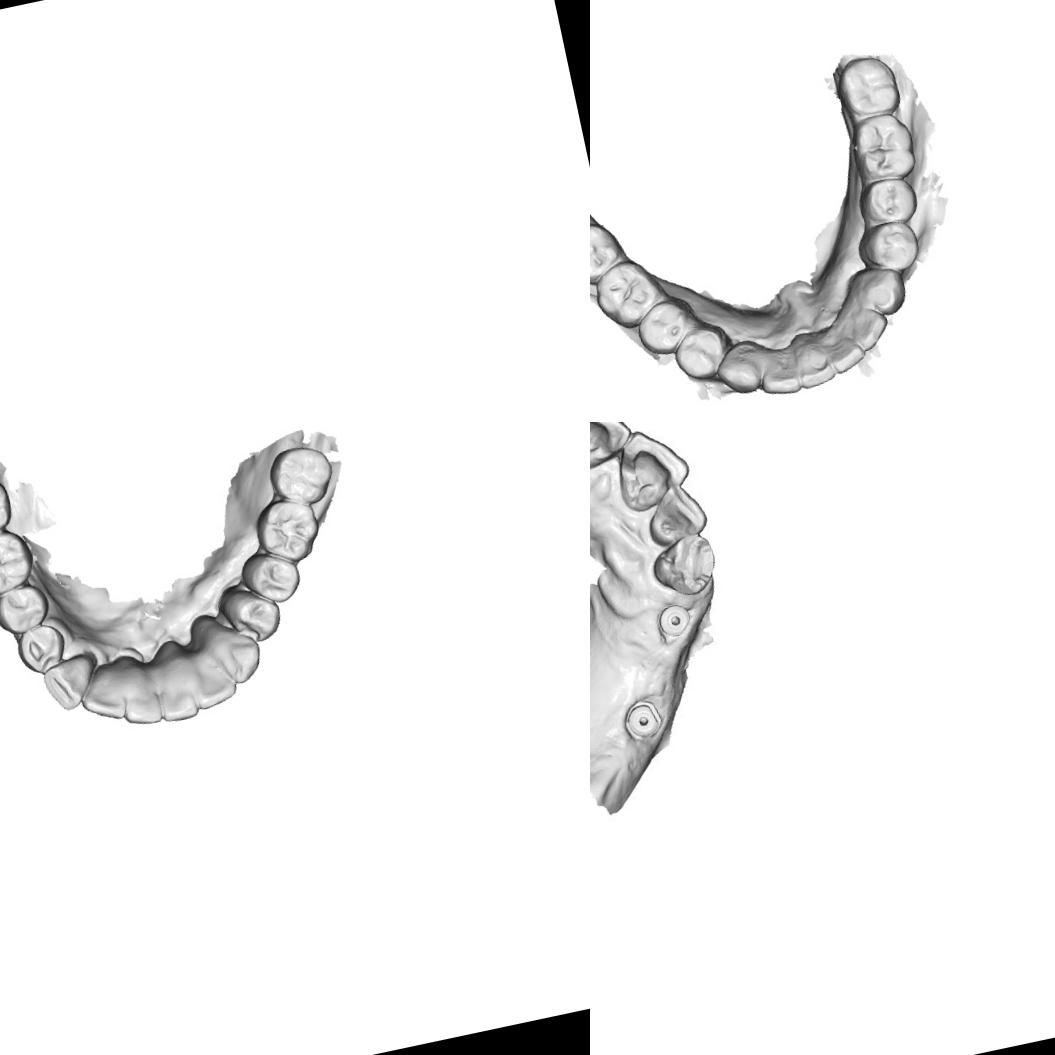canine: (644, 532, 723, 602), (198, 623, 270, 692), (38, 651, 106, 717), (846, 260, 914, 322), (708, 334, 771, 400)
implant: (619, 694, 672, 748), (654, 597, 698, 645)
incisor: (616, 425, 695, 510), (182, 633, 240, 713), (644, 481, 710, 549), (110, 650, 165, 731), (72, 658, 132, 728), (148, 651, 201, 725), (750, 338, 804, 402), (834, 297, 890, 357), (790, 329, 841, 392), (817, 316, 868, 376), (590, 422, 632, 471)
molar: (590, 251, 669, 337), (262, 437, 342, 513), (250, 492, 326, 570), (846, 110, 921, 188), (830, 48, 904, 125), (590, 214, 630, 292), (0, 525, 36, 601), (0, 468, 18, 543)
premolar: (218, 578, 288, 651), (235, 543, 307, 612), (631, 293, 701, 362), (667, 318, 736, 386), (852, 216, 924, 278), (853, 172, 922, 232), (0, 578, 56, 641), (12, 620, 70, 679)
